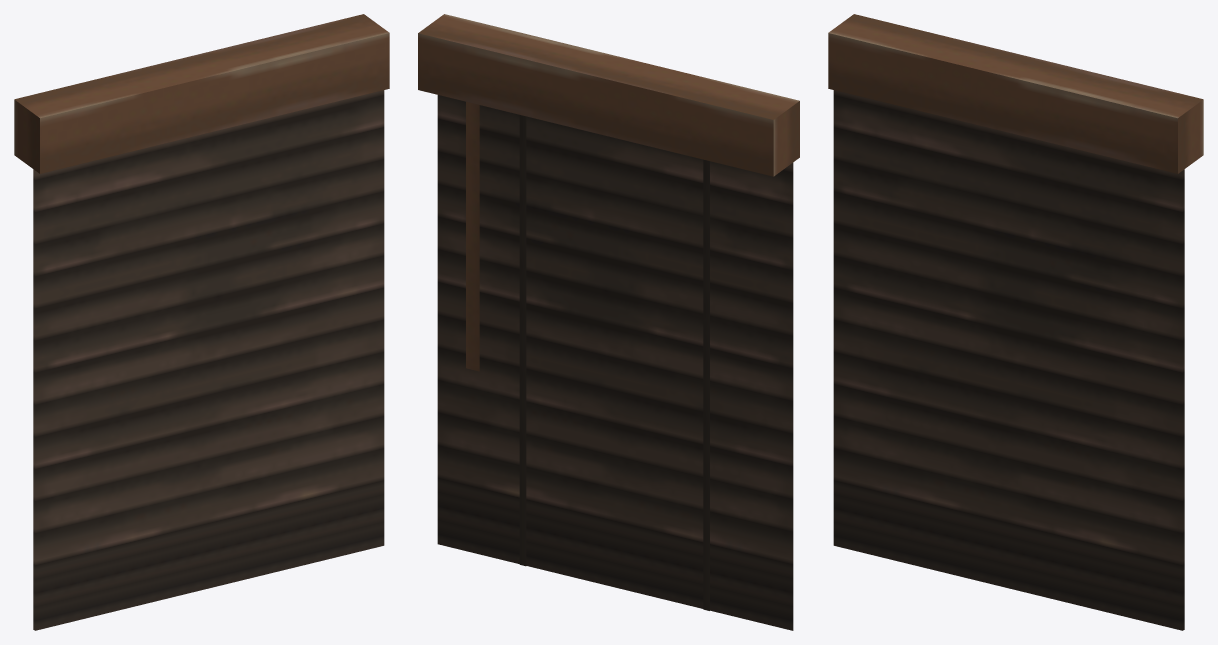
File: WAL0110001.FBX
3 renders of one model, left to right at view 1: azimuth 30°, elevation 25°; view 2: azimuth 150°, elevation 25°; view 3: azimuth 330°, elevation 25°, orthographic.
Visible parts, largest first — view 1: smWAL0110001; view 2: smWAL0110001; view 3: smWAL0110001.
Boxes of the visible parts, box(x1,y1,x2,y2) form: smWAL0110001: box(14, 14, 389, 630); smWAL0110001: box(418, 14, 799, 630); smWAL0110001: box(828, 14, 1203, 630).
Size of the model in its own units: 1.33 by 1.87 by 0.1702.
Materials: 1 (1 with a texture image).
